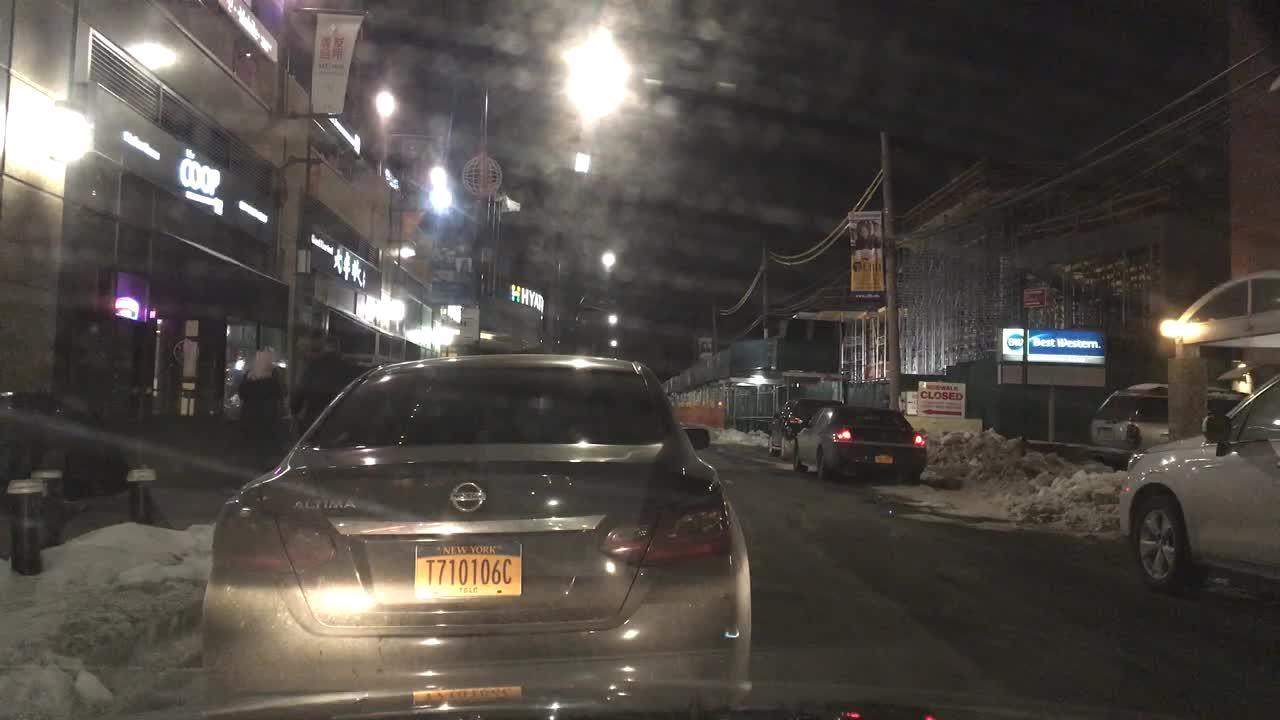Nissan: (433, 473, 505, 524)
